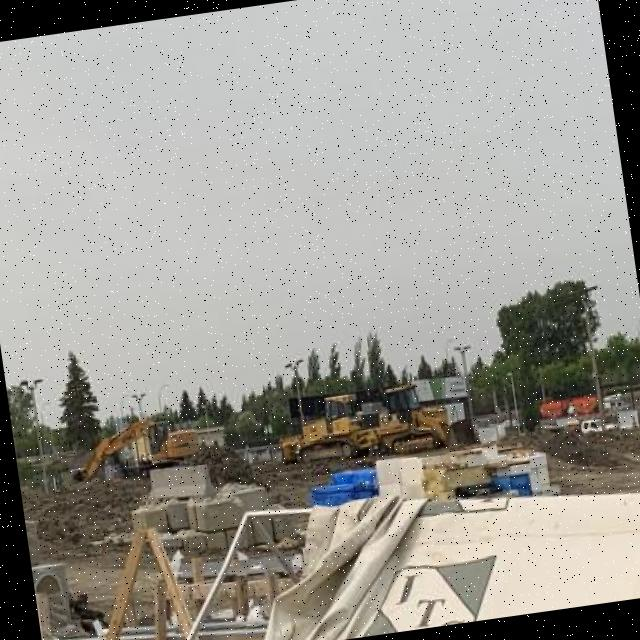Excavator: (64, 406, 206, 486)
